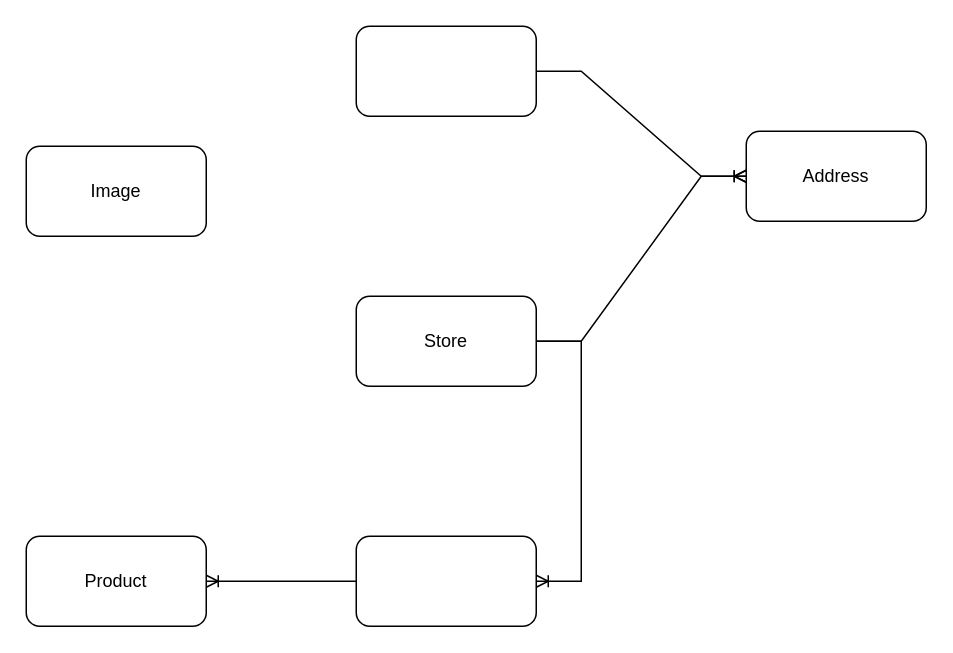
Some shapes in this 953 by 653 pixel diagram are drawn without their labels. Here are the shapes that lost their labels. From the top down, the centre of each, then its label:
pixel 445 70: User
pixel 445 580: Category
